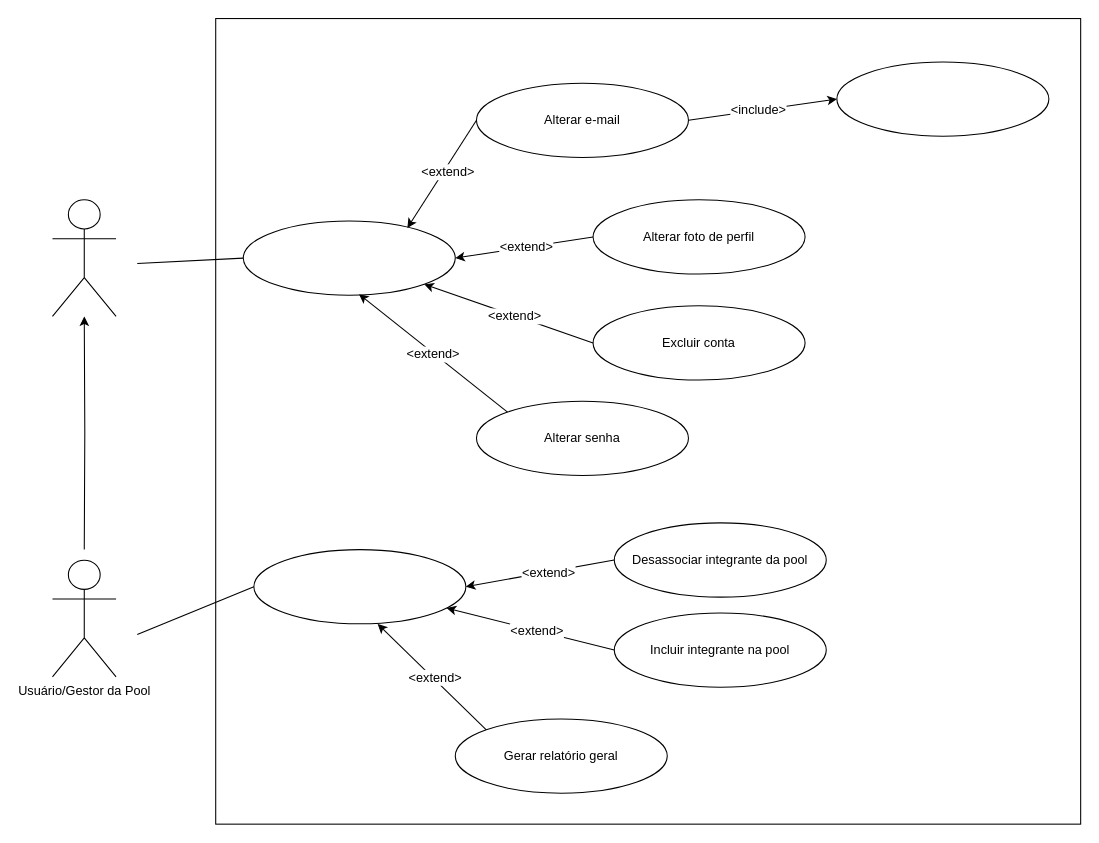
The diagram is 1099 pixels wide and 843 high, and some of its shapes have lost their labels. Each missing label, with the centre of its shape:
Associar um e-mail válido e existente: the point at 942,98
Manter perfil: the point at 348,257
Manter pool: the point at 359,586
Usuário Comum: the point at 83,257
